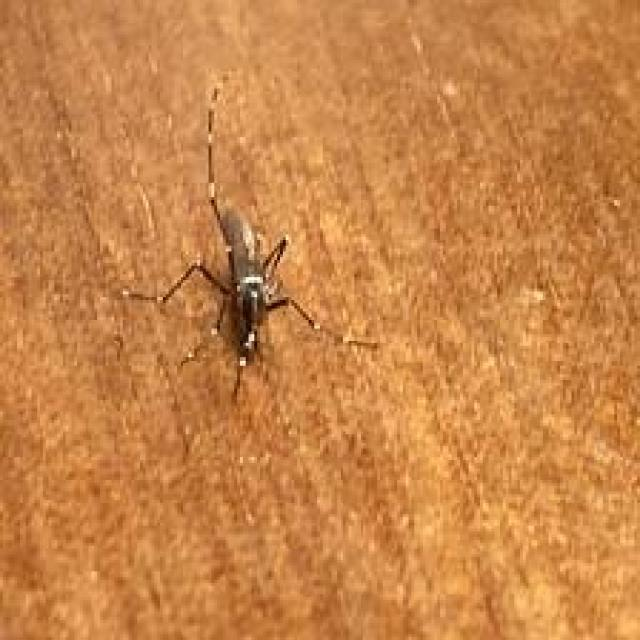Aedes albopictus: (123, 83, 380, 406)
